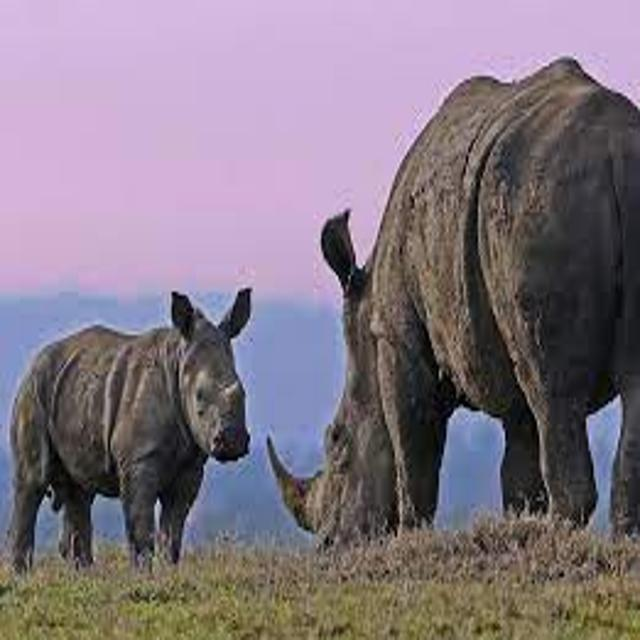Rinoceros: (282, 60, 640, 586), (1, 300, 289, 576)
